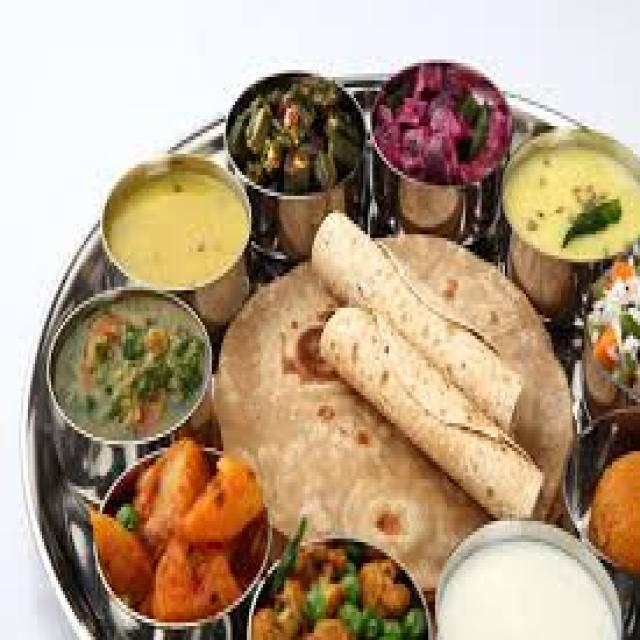curd: (430, 518, 631, 640)
dal: (100, 144, 253, 319), (506, 127, 635, 269)
sweet: (580, 423, 638, 581)
